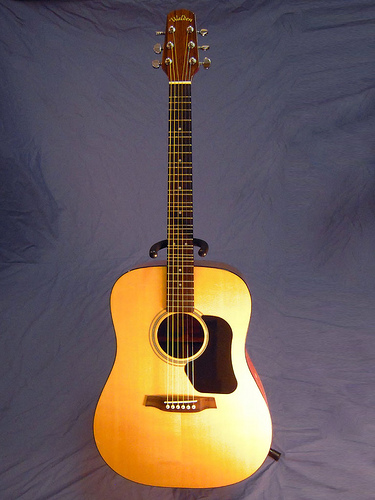guitar: (93, 10, 274, 490)
